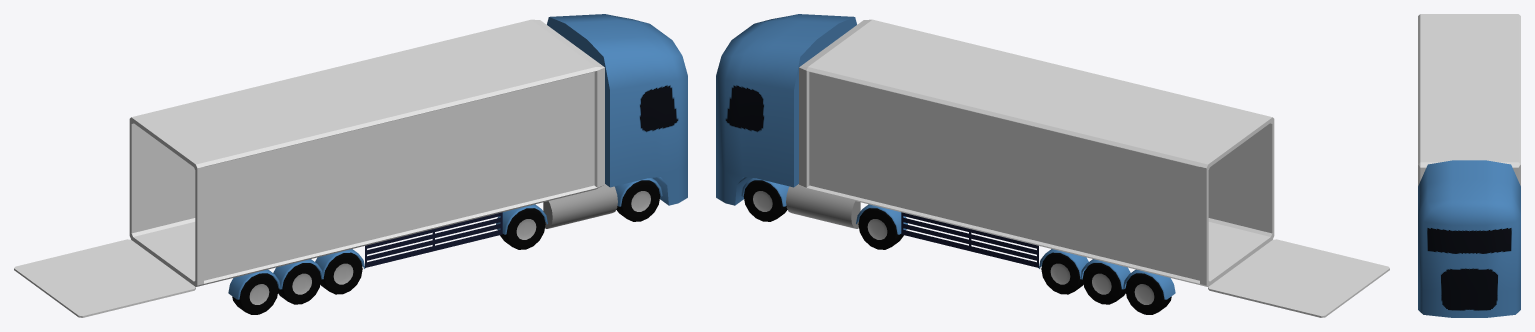
File: lkw.fbx
The picture shows the model from 3 angles, left to right: view 1: azimuth 30°, elevation 25°; view 2: azimuth 150°, elevation 25°; view 3: azimuth 270°, elevation 25°; orthographic projection. The views are drawn at different scales.
Visible parts, largest first — view 1: Cube, Cube.001, Cube.002, Circle, Plane, Circle.009; view 2: Cube, Cube.001, Cube.002, Circle, Plane, Circle.009; view 3: Cube.001, Cube.
Boxes of the visible parts, x1=… form: Cube: x1=129, y1=19, x2=604, y2=286; Cube.001: x1=547, y1=14, x2=687, y2=205; Cube.002: x1=14, y1=239, x2=195, y2=317; Circle: x1=232, y1=180, x2=660, y2=314; Plane: x1=365, y1=212, x2=502, y2=267; Circle.009: x1=543, y1=184, x2=617, y2=228; Cube: x1=799, y1=19, x2=1274, y2=286; Cube.001: x1=716, y1=14, x2=856, y2=205; Cube.002: x1=1208, y1=239, x2=1389, y2=317; Circle: x1=743, y1=180, x2=1171, y2=314; Plane: x1=901, y1=212, x2=1038, y2=267; Circle.009: x1=786, y1=184, x2=860, y2=228; Cube.001: x1=1418, y1=160, x2=1520, y2=317; Cube: x1=1418, y1=14, x2=1520, y2=185.
Size of the model in its own units: 1629 by 440 by 308.
Materials: 1 (1 with a texture image).
